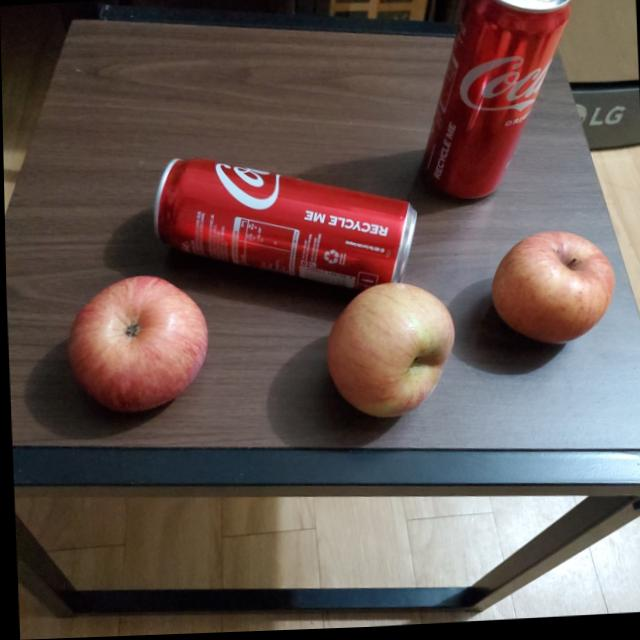apple: (68, 279, 212, 419), (323, 288, 456, 427), (492, 235, 619, 354)
coke: (154, 152, 420, 303), (407, 0, 579, 207)
